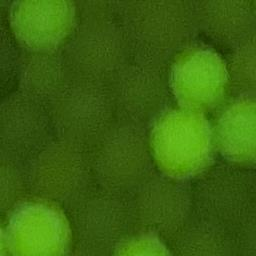negative: (124, 1, 196, 65), (90, 125, 156, 188), (50, 85, 117, 145), (133, 175, 198, 231), (28, 145, 90, 201), (76, 189, 142, 241), (200, 166, 256, 227), (0, 90, 54, 153), (67, 26, 128, 81), (193, 0, 256, 48), (114, 64, 166, 116), (17, 46, 67, 98), (174, 217, 234, 256), (0, 26, 24, 91), (226, 47, 256, 99), (77, 1, 121, 25), (72, 236, 114, 256), (231, 225, 256, 256), (122, 0, 123, 2)
positive: (143, 107, 218, 179), (164, 45, 231, 107), (8, 198, 75, 256), (9, 0, 80, 51), (215, 96, 256, 169), (112, 226, 172, 256), (0, 153, 25, 206), (0, 214, 11, 255)
